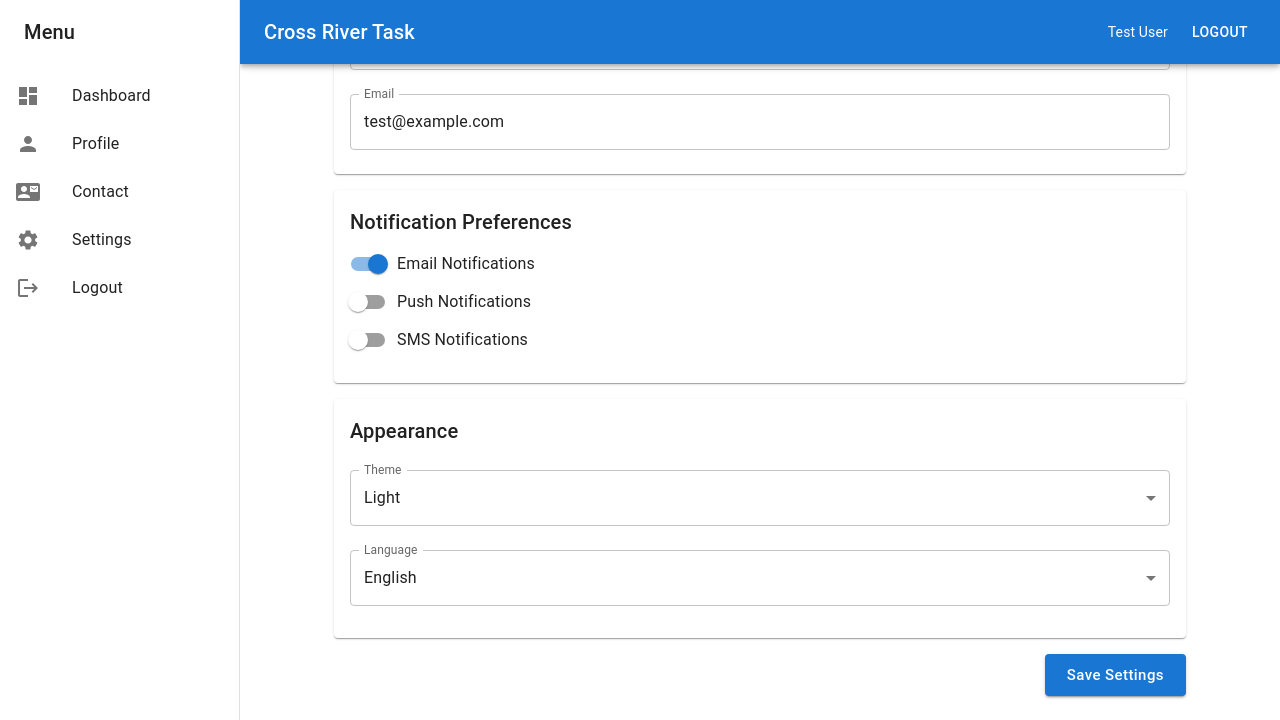
Settings Page › should show success message after saving
The image size is (1280, 720).
(page scrolled)
Click the button "Save Settings". click: (1115, 675)
box: [1045, 654, 1186, 696]
(page scrolled)
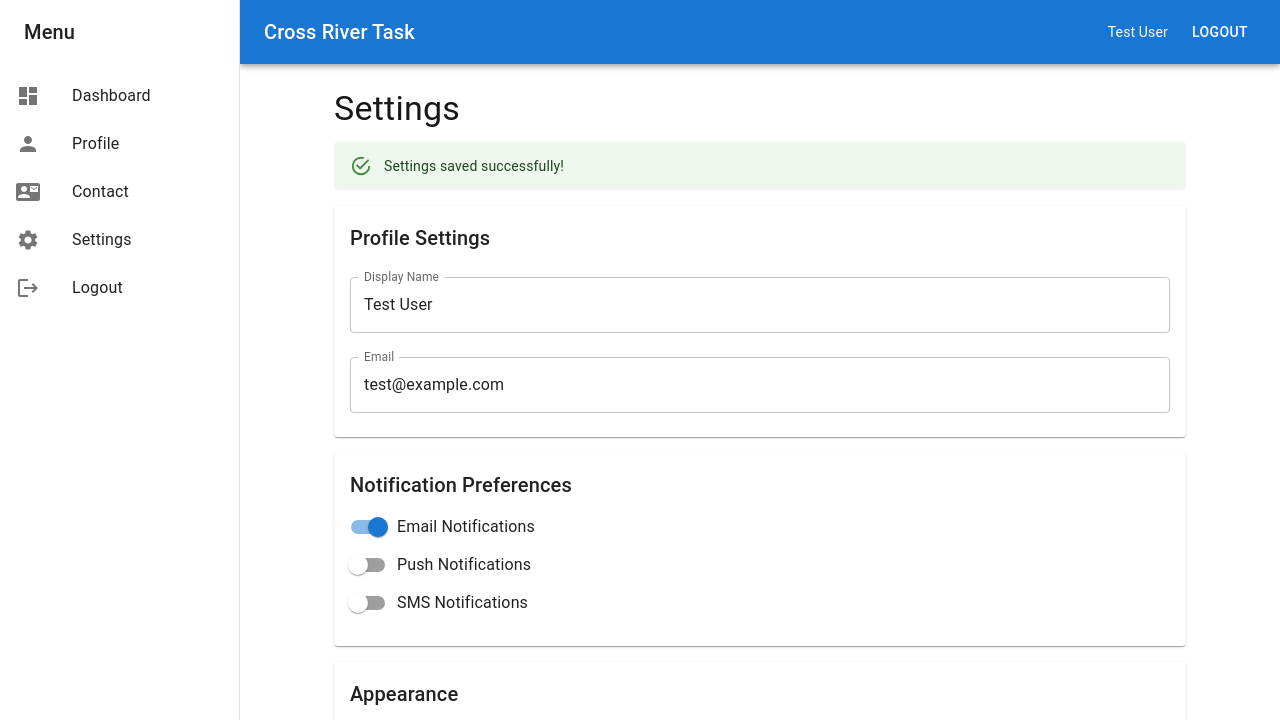
Now the text "Settings saved successfully!" is shown, box [384, 158, 564, 174]
